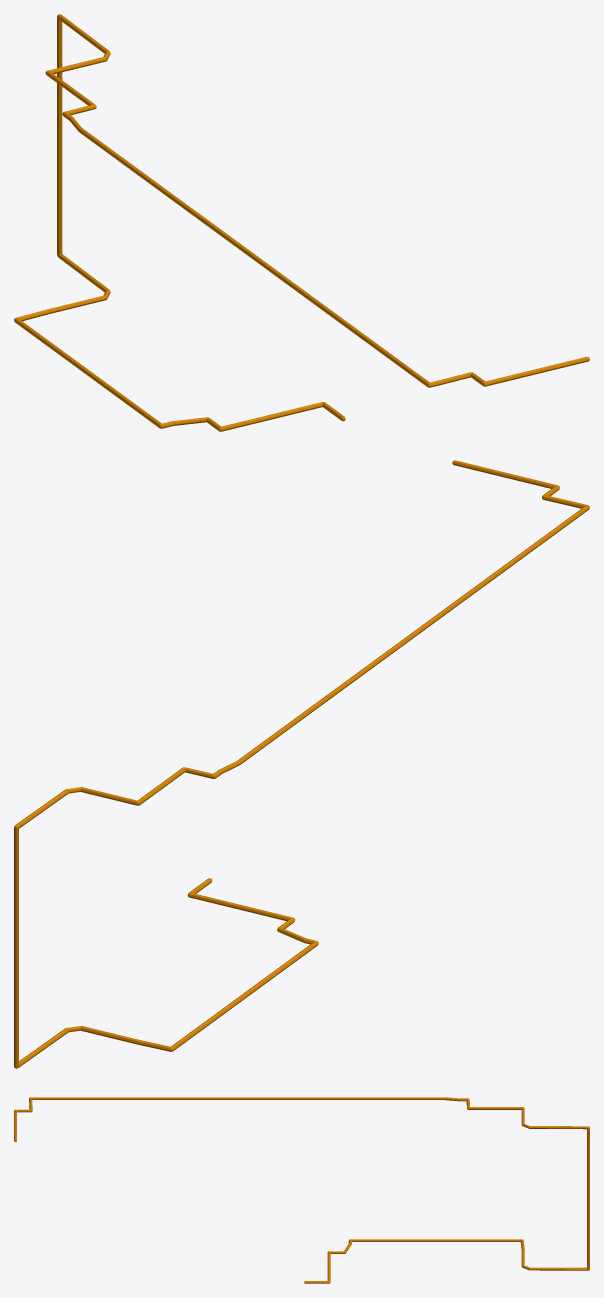
3 renders of one model, top to bottom at view 1: azimuth 30°, elevation 25°; view 2: azimuth 150°, elevation 25°; view 3: azimuth 270°, elevation 25°, orthographic. The views are drawn at different scales.
Bounding box in the file's own units: 658 × 1020 × 3687.
